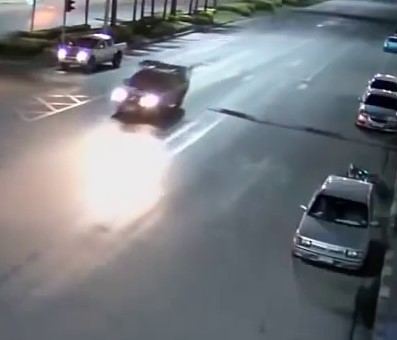car: (293, 173, 376, 270), (115, 61, 192, 121), (57, 34, 127, 72), (358, 73, 397, 134), (382, 34, 397, 58)
